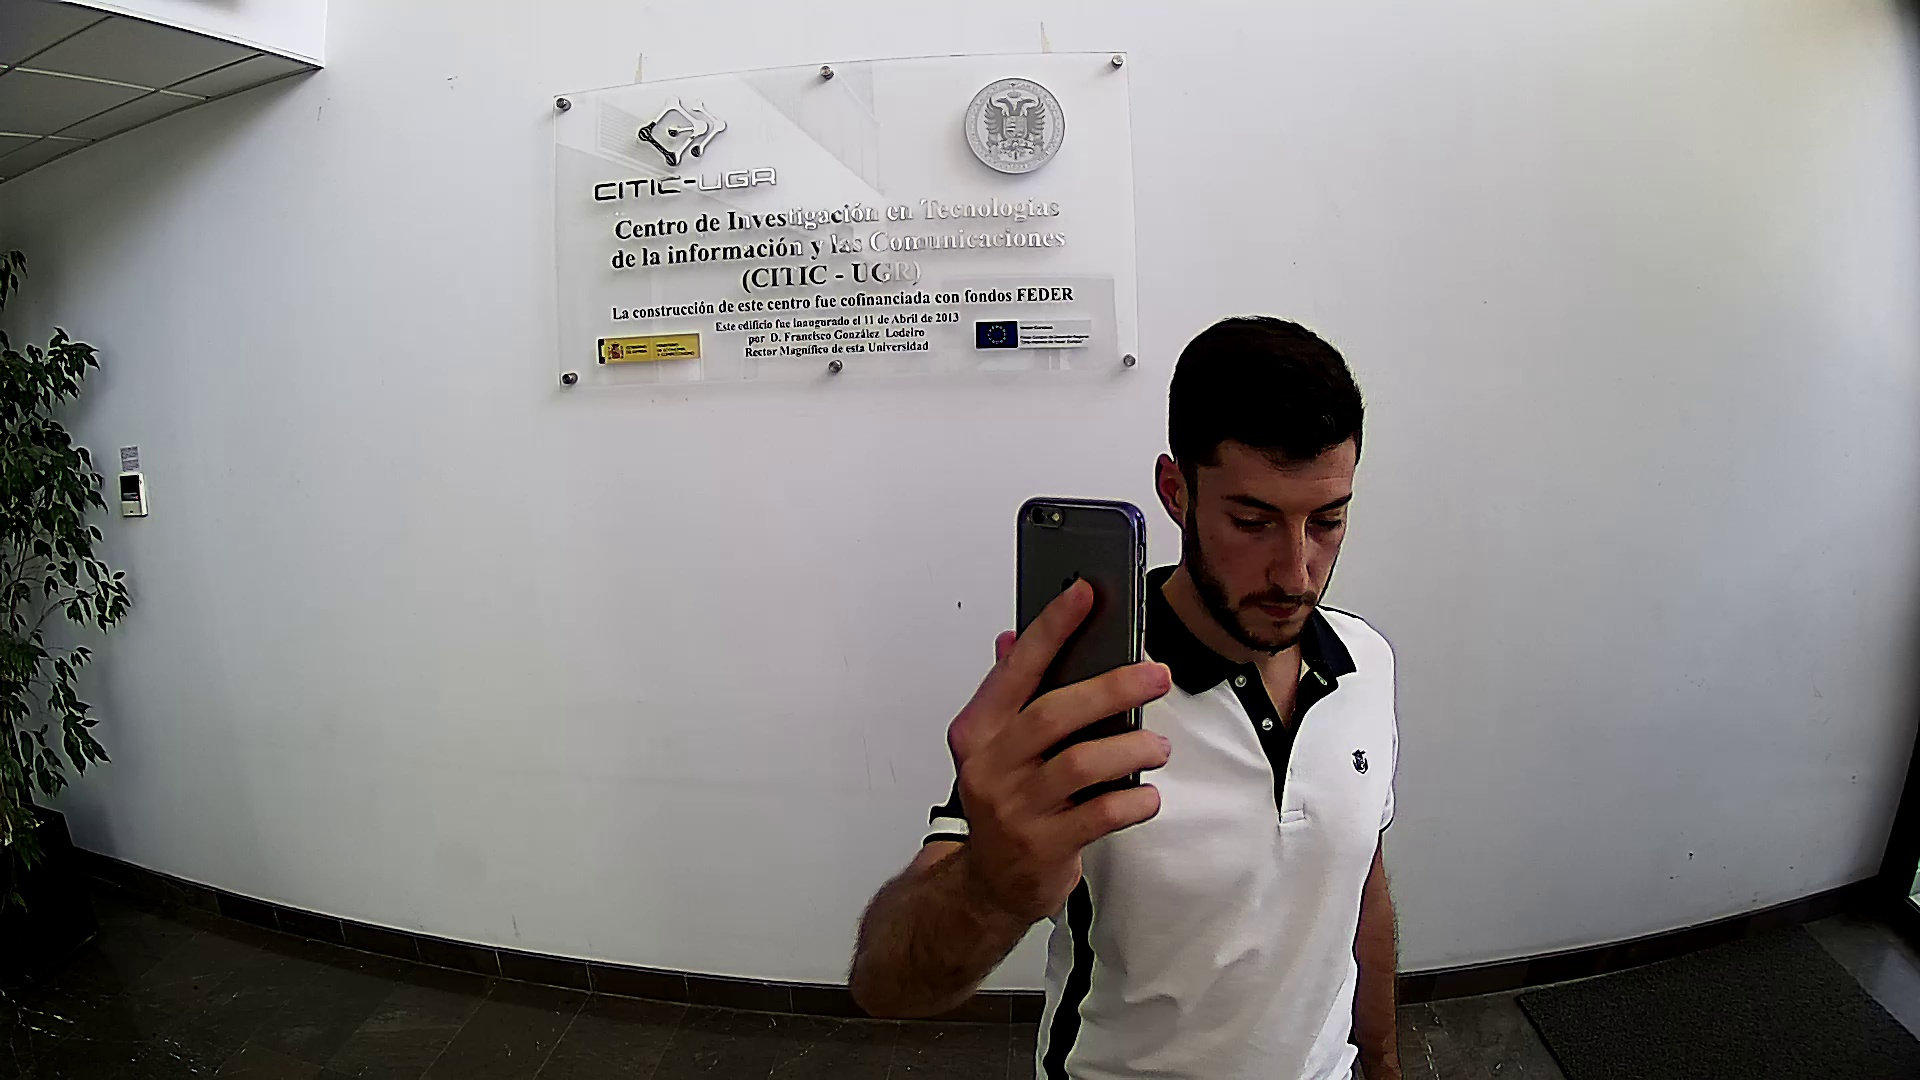smartphone: (1014, 495, 1149, 810)
